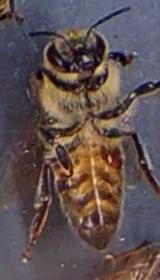varroa_mite: (86, 141, 132, 174)
